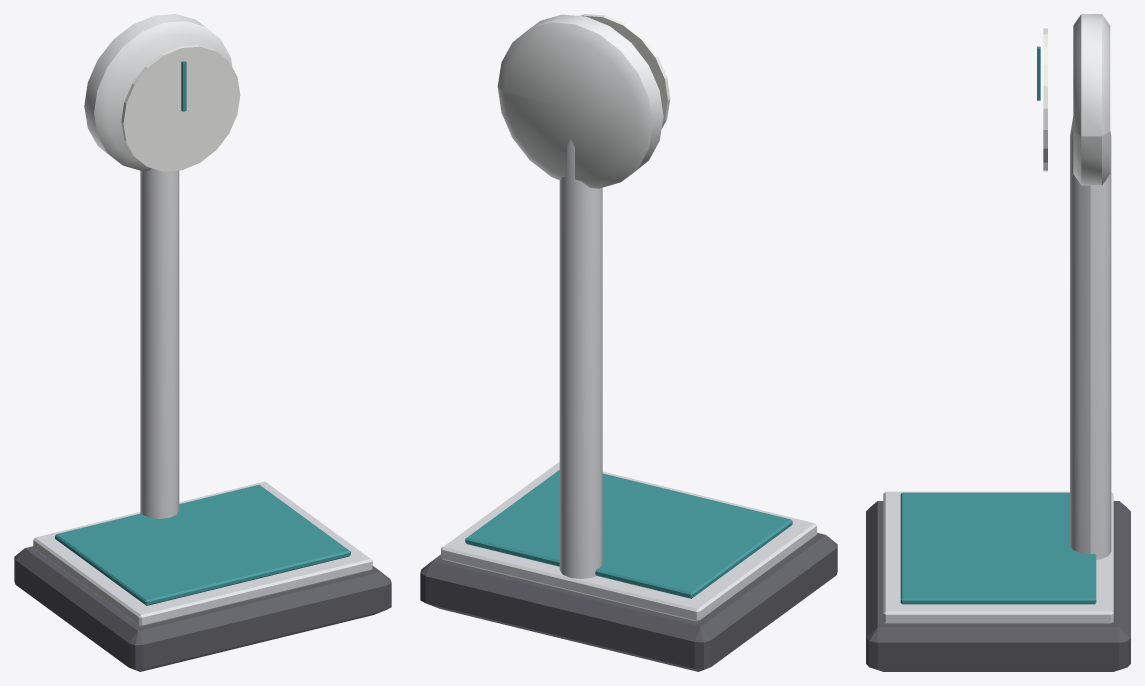
The model's file is dry-cleaners-and-alterations-shop-weighing-scale-f870c714__34961.glb.
3 renders of one model, left to right at view 1: azimuth 30°, elevation 25°; view 2: azimuth 150°, elevation 25°; view 3: azimuth 270°, elevation 25°, orthographic. The views are drawn at different scales.
Visible parts, largest first — view 1: weighing-scale; view 2: weighing-scale; view 3: weighing-scale.
Part boxes in pixels (left/top/right/bottom): weighing-scale: left=14, top=14, right=391, bottom=671; weighing-scale: left=420, top=14, right=837, bottom=671; weighing-scale: left=866, top=14, right=1130, bottom=671.
Bounding box in the file's own units: 0.56 × 1.13 × 0.46.
